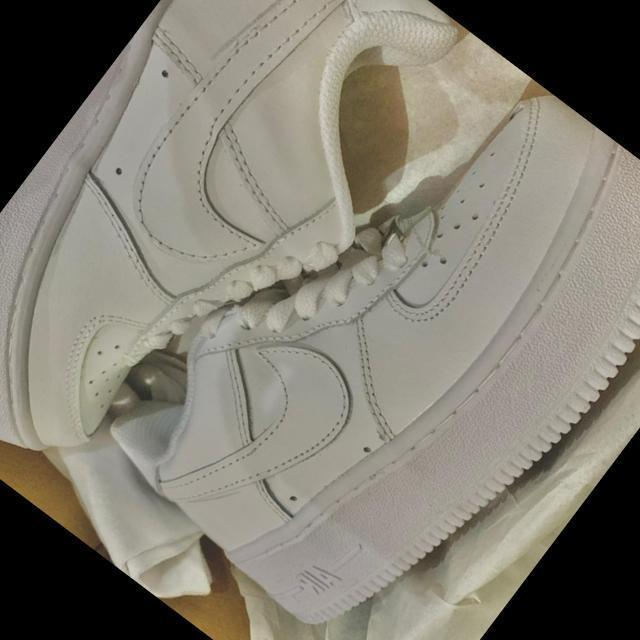nike fake air force: (100, 6, 640, 640), (0, 0, 498, 548)
